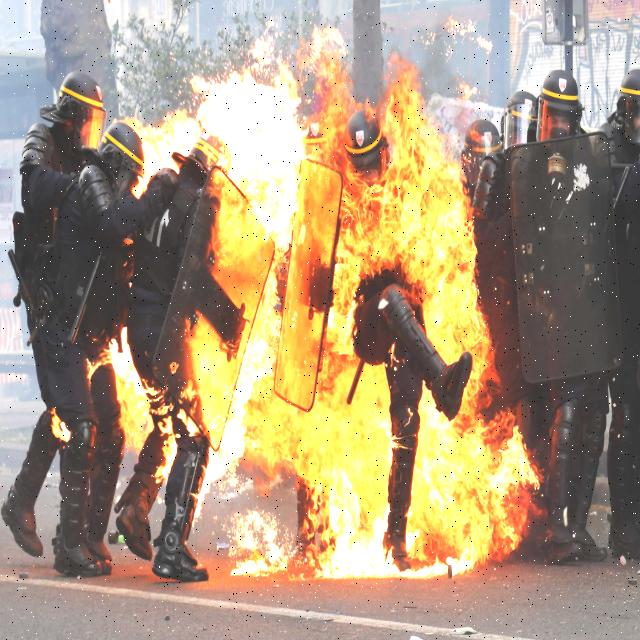police: (128, 82, 285, 629), (3, 44, 141, 605), (464, 53, 600, 548), (569, 44, 640, 569)
